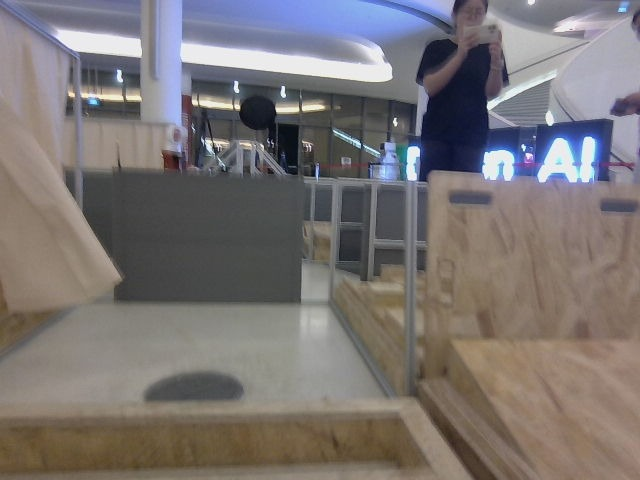curtain: (0, 0, 128, 302)
